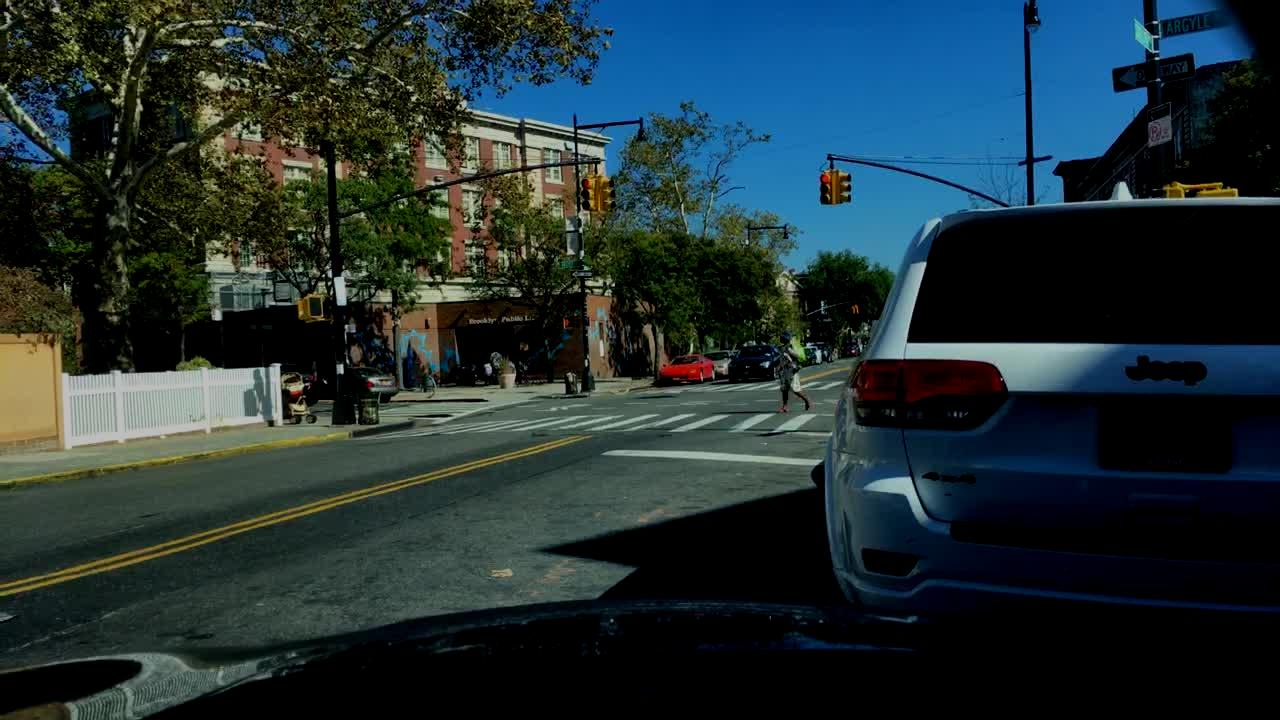jeep: (1106, 333, 1253, 415)
